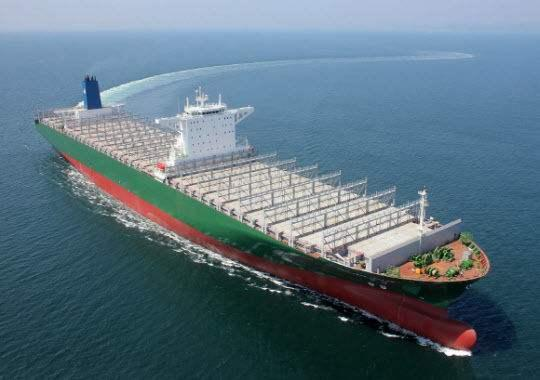Cargoship: (37, 69, 496, 346)
